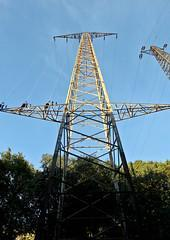power_tower: (0, 30, 168, 236)
